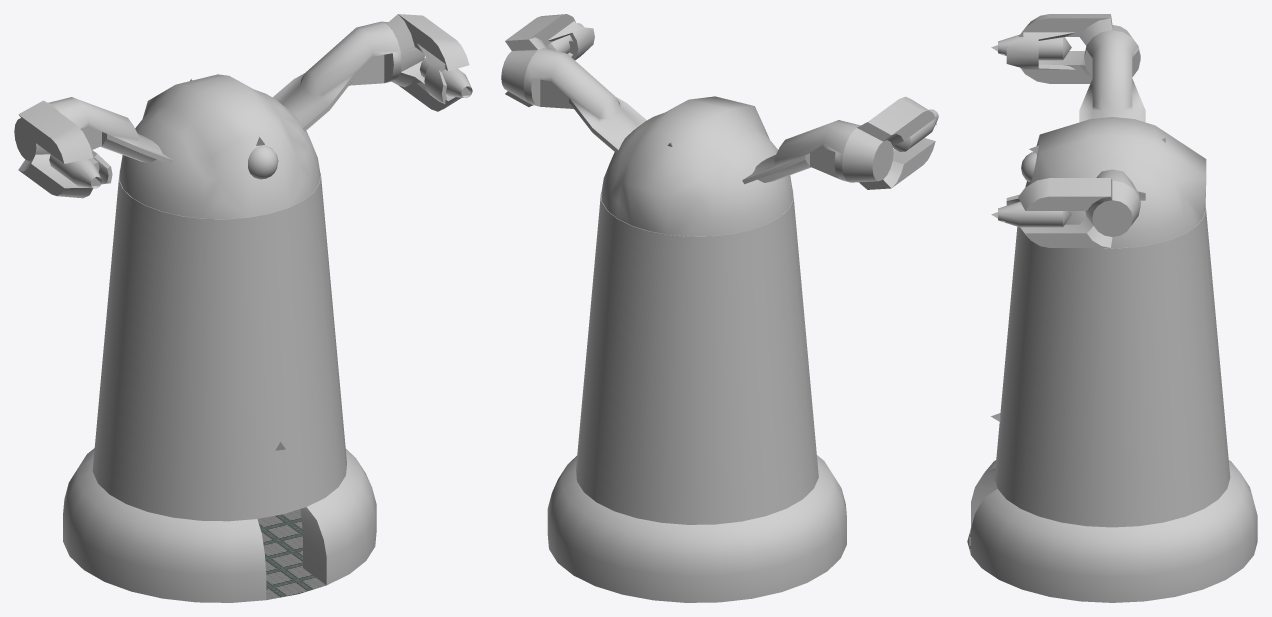
File: ibgtow00.FBX
3 views of the same model, side by side, from view 1: azimuth 30°, elevation 25°; view 2: azimuth 150°, elevation 25°; view 3: azimuth 270°, elevation 25° (orthographic). The views are drawn at different scales.
Parts seen in each view (by area): view 1: gtow, turret_y, turret_x_1, floor, recoil_l, recoil_r, turret_x_2; view 2: gtow, turret_y, turret_x_1, recoil_l; view 3: gtow, turret_y, turret_x_1, recoil_r, recoil_l.
Part boxes in pixels (x1=…): gtow: x1=63, y1=169, x2=376, y2=602; turret_y: x1=48, y1=21, x2=401, y2=219; turret_x_1: x1=14, y1=14, x2=469, y2=198; floor: x1=257, y1=509, x2=326, y2=599; recoil_l: x1=417, y1=43, x2=472, y2=103; recoil_r: x1=49, y1=149, x2=112, y2=188; turret_x_2: x1=248, y1=145, x2=278, y2=179; gtow: x1=547, y1=189, x2=846, y2=602; turret_y: x1=523, y1=48, x2=860, y2=236; turret_x_1: x1=501, y1=14, x2=935, y2=189; recoil_l: x1=546, y1=21, x2=594, y2=60; gtow: x1=971, y1=208, x2=1257, y2=602; turret_y: x1=1025, y1=30, x2=1206, y2=248; turret_x_1: x1=1018, y1=14, x2=1140, y2=247; recoil_r: x1=998, y1=32, x2=1075, y2=69; recoil_l: x1=998, y1=194, x2=1071, y2=227.
Size of what is drawn, in the model's own units: 15.3 by 17.33 by 10.29.
